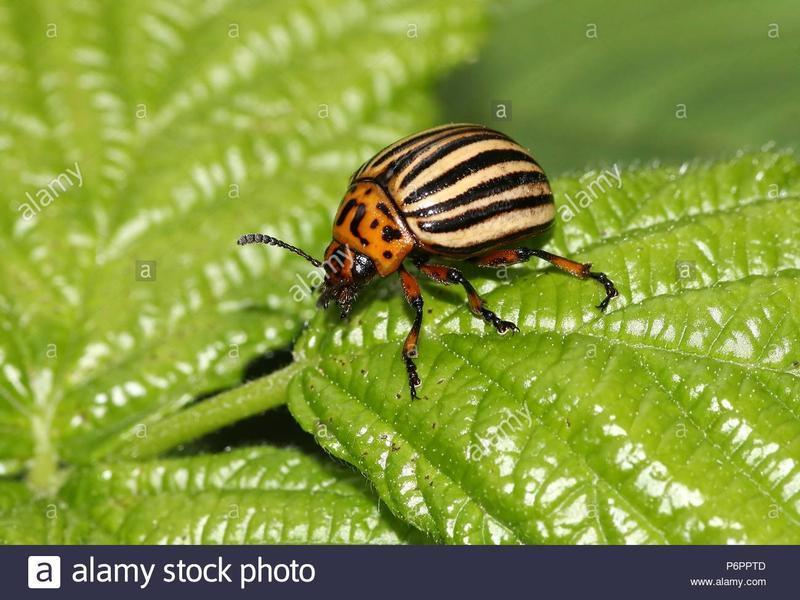hrosc: (308, 112, 583, 349)
